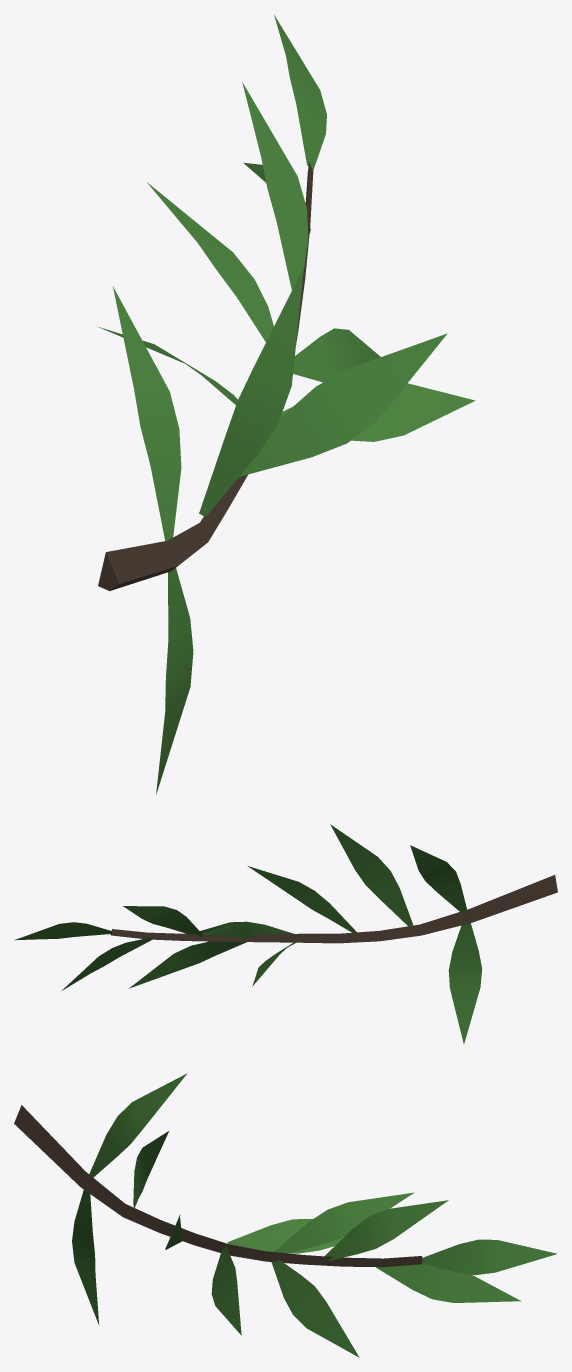
The model's file is branch_leafy_B.fbx.
3 views of the same model, one above another, from view 1: azimuth 30°, elevation 25°; view 2: azimuth 150°, elevation 25°; view 3: azimuth 270°, elevation 25° (orthographic). The views are drawn at different scales.
Visible parts, largest first — view 1: branch_leafy_B; view 2: branch_leafy_B; view 3: branch_leafy_B.
Boxes of the visible parts, x1,y1,x2,y2 form: branch_leafy_B: (98, 15, 475, 794); branch_leafy_B: (14, 824, 557, 1043); branch_leafy_B: (14, 1073, 557, 1357).
Bounding box in the file's own units: 65.94 × 44.58 × 83.8.
